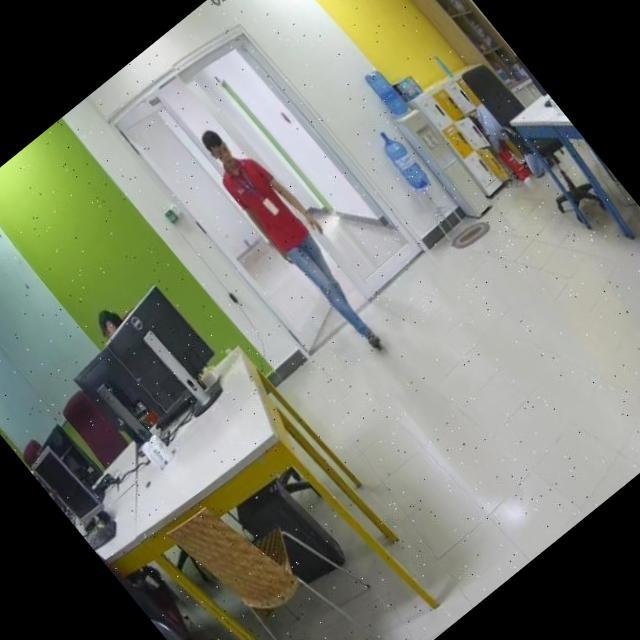person: (187, 111, 408, 366)
